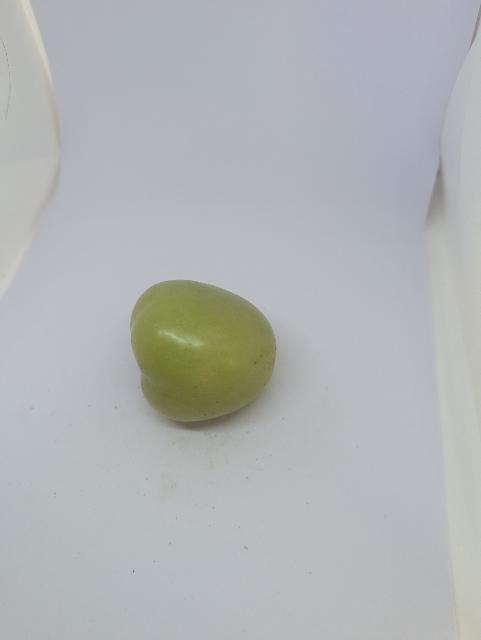green: (122, 269, 287, 437)
